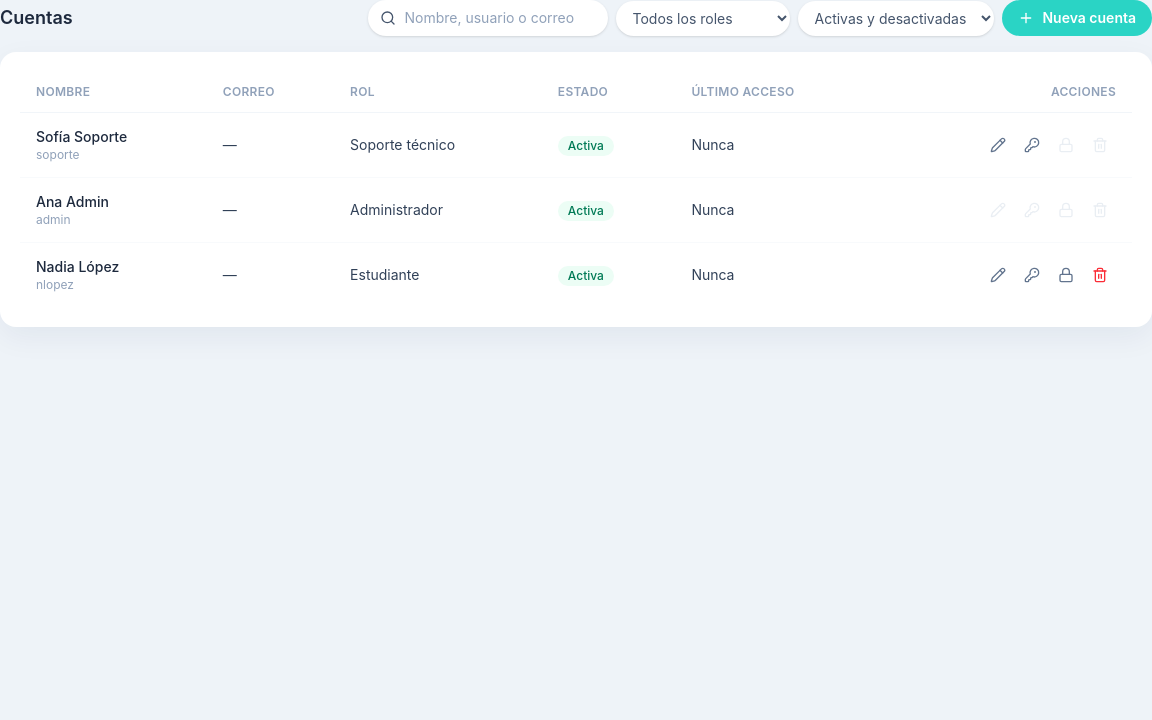
Test: UserList › muestra por qué no se pudo eliminar una cuenta con historial
The width and height of the screenshot is (1152, 720).
Click the button named "Eliminar" at (1100, 275), box [1084,259,1116,291]
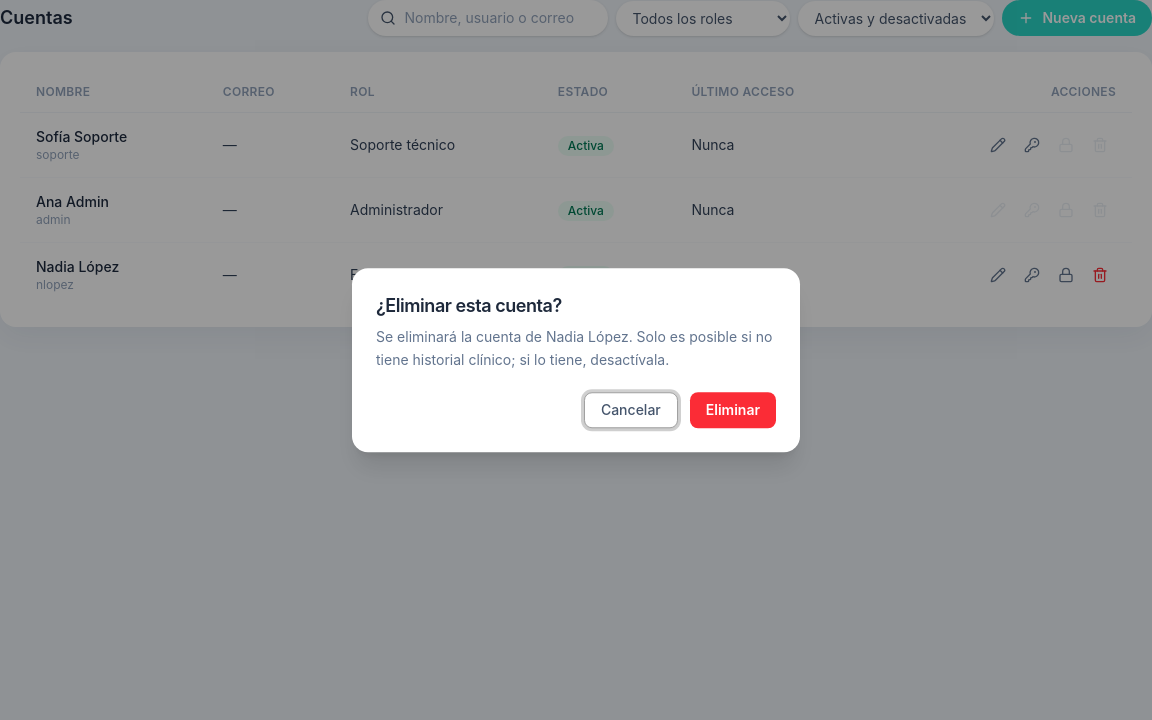
Click the button "Eliminar" at (733, 410), box [690,392,776,428]
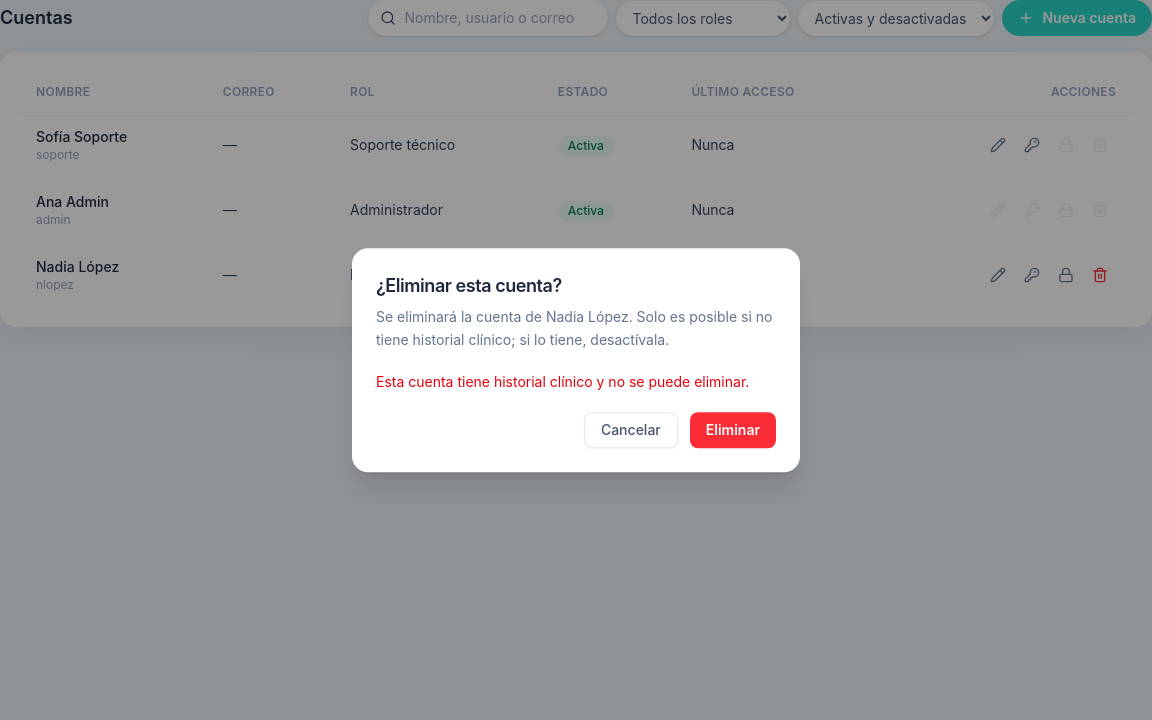
Now the message reads "Esta cuenta tiene historial clínico y no se puede eliminar.", box [376,373,749,390]
